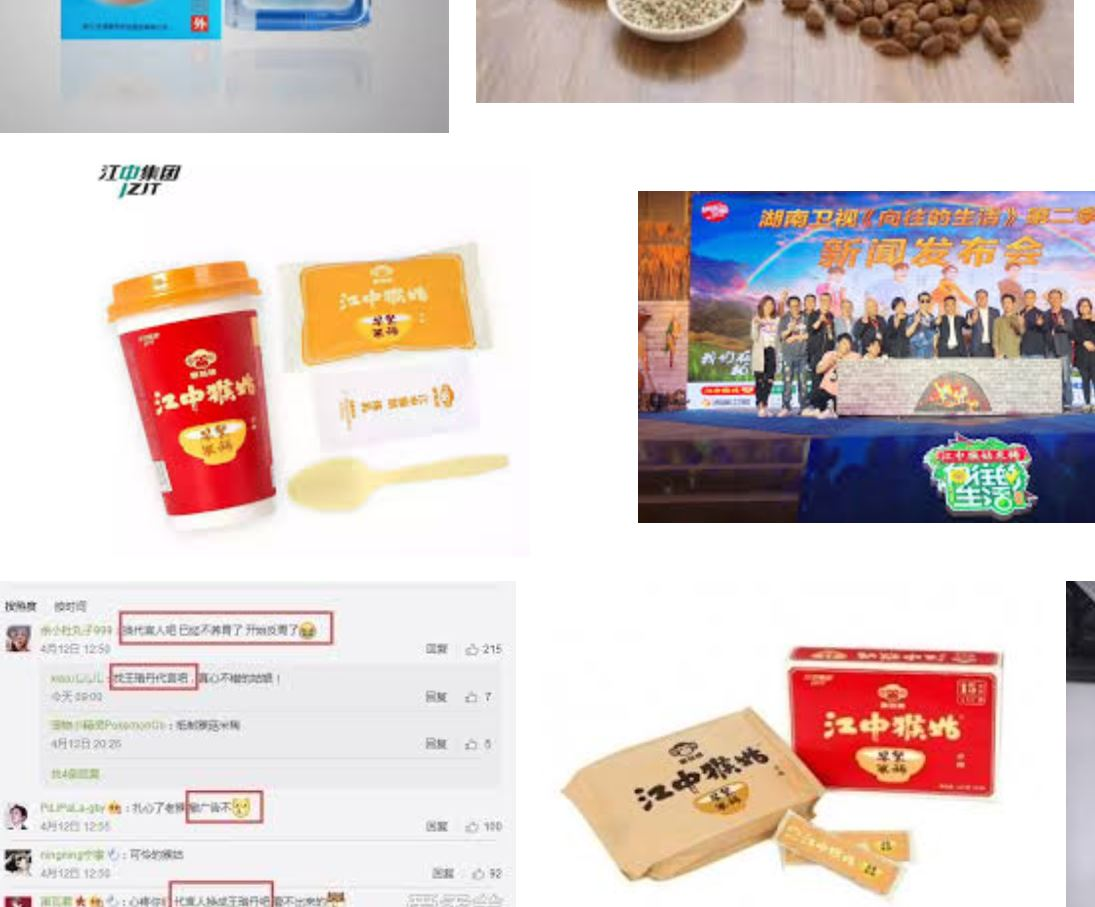box: (788, 642, 1003, 798)
cup: (109, 260, 273, 523)
